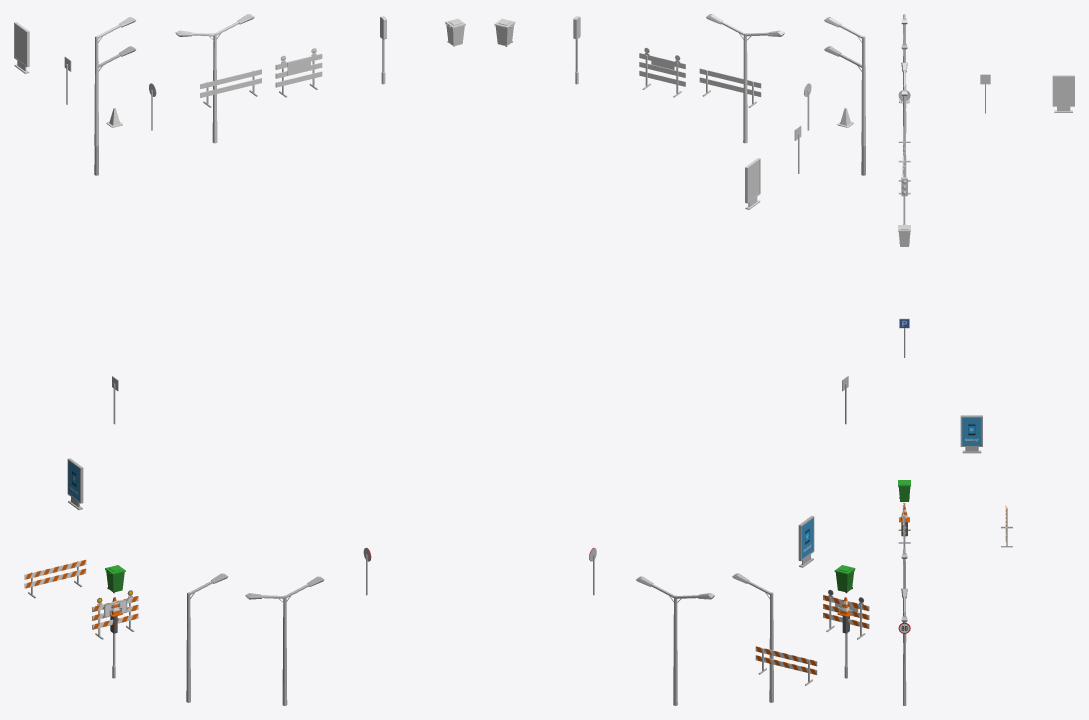
Rendered from DynamicBodyBase.glb.
3 views of the same model, side by side, from view 1: azimuth 30°, elevation 25°; view 2: azimuth 150°, elevation 25°; view 3: azimuth 270°, elevation 25° (orthographic). The views are drawn at different scales.
Visible parts, largest first — view 1: Construction_signs1, Construction_signs, Light_two_way, Light_two_way1, Small_Construction_signs, Small_Construction_signs1, Small_billboards, Small_billboards1, Light_one_way1, Light_one_way; view 2: Construction_signs1, Construction_signs, Light_two_way, Light_two_way1, Small_Construction_signs, Small_Construction_signs1, Small_billboards, Light_one_way1, Small_billboards1, Light_one_way; view 3: Small_billboards, Small_billboards1, Light_two_way, Light_two_way1.
Boxes of the visible parts, <box> form: Construction_signs1: <box>275,48,322,97</box>; Construction_signs: <box>92,590,138,639</box>; Light_two_way: <box>245,576,324,705</box>; Light_two_way1: <box>175,14,254,143</box>; Small_Construction_signs: <box>24,559,86,598</box>; Small_Construction_signs1: <box>200,69,261,107</box>; Small_billboards: <box>67,458,83,509</box>; Small_billboards1: <box>14,22,29,73</box>; Light_one_way1: <box>94,17,136,146</box>; Light_one_way: <box>186,573,228,702</box>; Construction_signs1: <box>639,47,685,97</box>; Construction_signs: <box>823,589,869,639</box>; Light_two_way: <box>636,576,714,705</box>; Light_two_way1: <box>706,14,784,143</box>; Small_Construction_signs: <box>755,646,817,685</box>; Small_Construction_signs1: <box>699,68,761,107</box>; Small_billboards: <box>798,515,814,567</box>; Light_one_way1: <box>824,17,865,146</box>; Small_billboards1: <box>745,158,760,209</box>; Light_one_way: <box>732,573,773,702</box>; Small_billboards: <box>960,415,982,453</box>; Small_billboards1: <box>1052,75,1074,112</box>; Light_two_way: <box>901,588,907,705</box>; Light_two_way1: <box>901,62,907,177</box>.
Size of the model in its own units: 27.11 by 49.66 by 12.82.
Materials: 11 (11 with a texture image).
